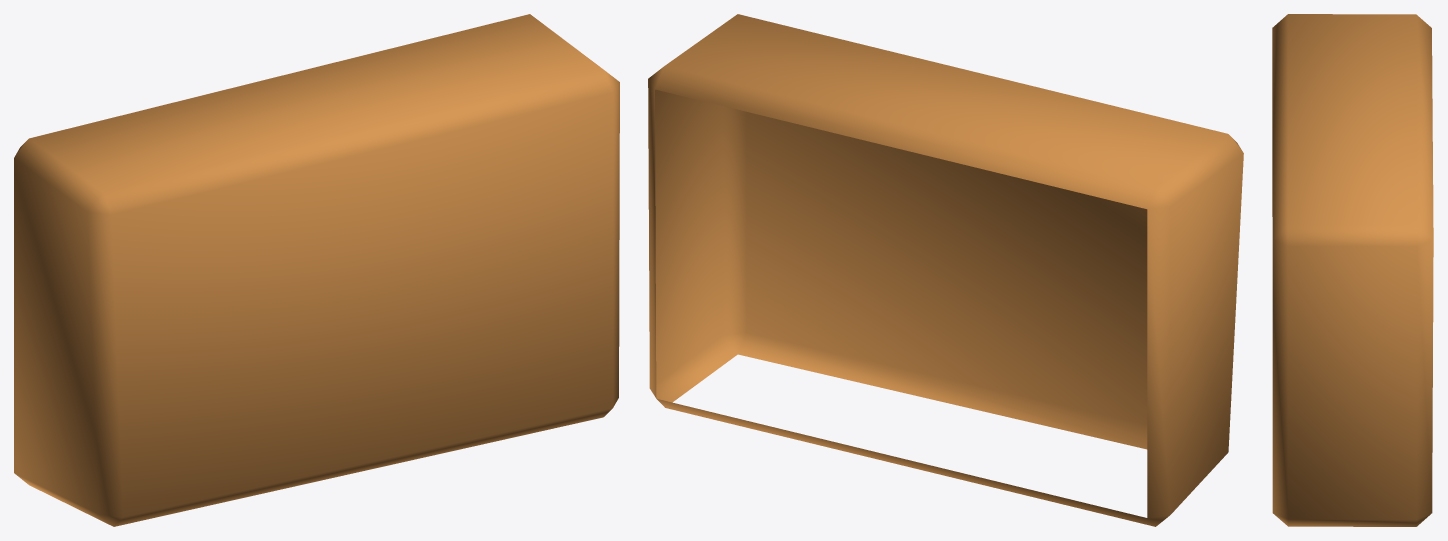
The model's file is block_c_lo.glb.
3 renders of one model, left to right at view 1: azimuth 30°, elevation 25°; view 2: azimuth 150°, elevation 25°; view 3: azimuth 270°, elevation 25°, orthographic. The views are drawn at different scales.
Parts seen in each view (by area): view 1: block_c_lo; view 2: block_c_lo; view 3: block_c_lo.
Boxes of the visible parts, x1,y1,x2,y2 form: block_c_lo: (14,14,619,526); block_c_lo: (648,14,1243,526); block_c_lo: (1272,14,1433,526).
Bounding box in the file's own units: 1.2 × 0.7521 × 0.3633.
